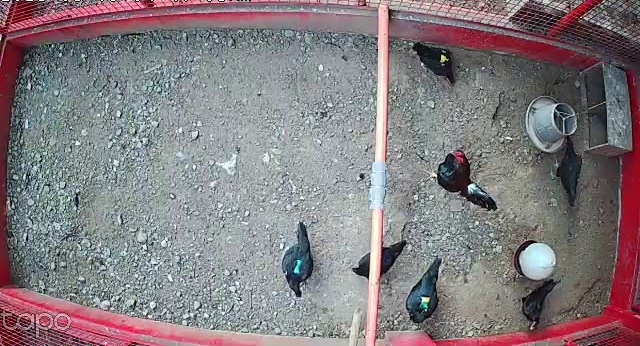Chicken: (277, 217, 322, 299), (405, 257, 452, 325), (351, 234, 410, 285), (547, 136, 586, 211), (515, 277, 561, 333), (412, 41, 459, 93)
Rooster: (414, 149, 495, 212)
Saddle_Color_Bluegreen: (293, 260, 306, 274)
Saddle_Color_Yellow: (440, 49, 451, 64)
Saddle_Color_YellowGreen: (420, 296, 431, 310)
